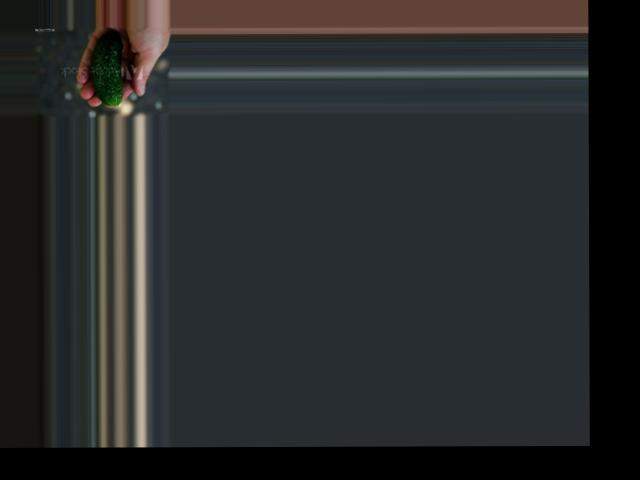cucumber: (90, 31, 122, 105)
